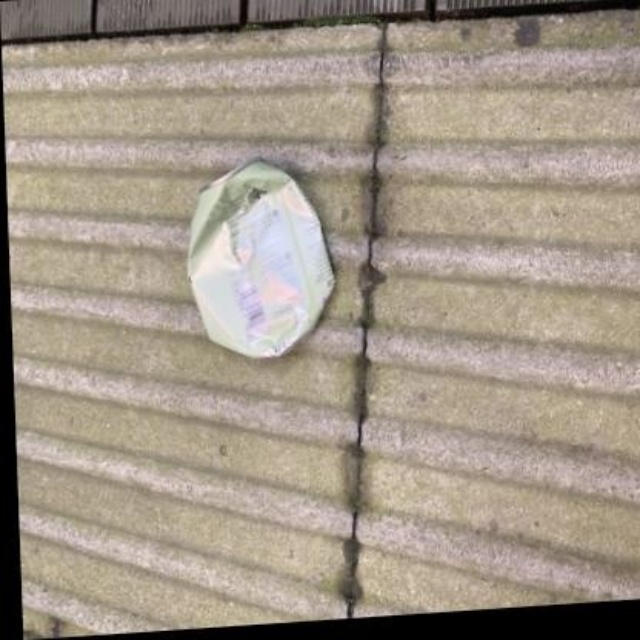trash: (188, 160, 332, 355)
